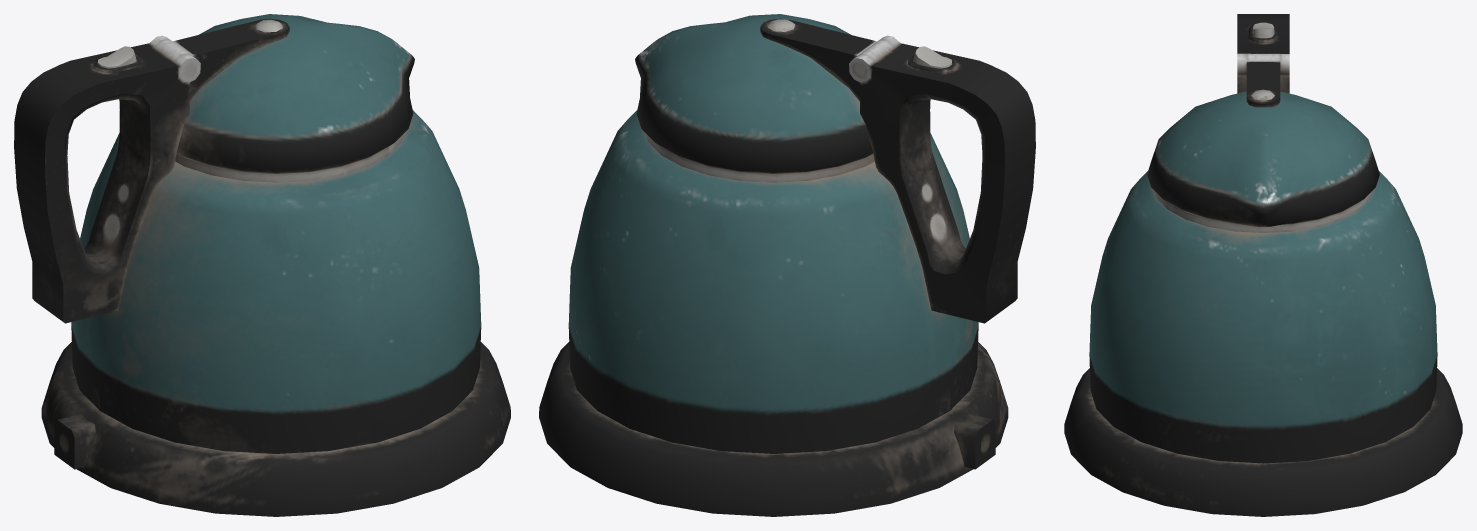
File: kettle.fbx
The picture shows the model from 3 angles, left to right: view 1: azimuth 30°, elevation 25°; view 2: azimuth 150°, elevation 25°; view 3: azimuth 270°, elevation 25°; orthographic projection. The views are drawn at different scales.
Parts seen in each view (by area): view 1: Boiler_A; view 2: Boiler_A; view 3: Boiler_A.
Part boxes in pixels (x1,y1,x2,y2): Boiler_A: (14, 14, 510, 516); Boiler_A: (539, 14, 1035, 516); Boiler_A: (1064, 14, 1462, 516).
Size of the model in its own units: 0.2796 by 0.2663 by 0.3097.
